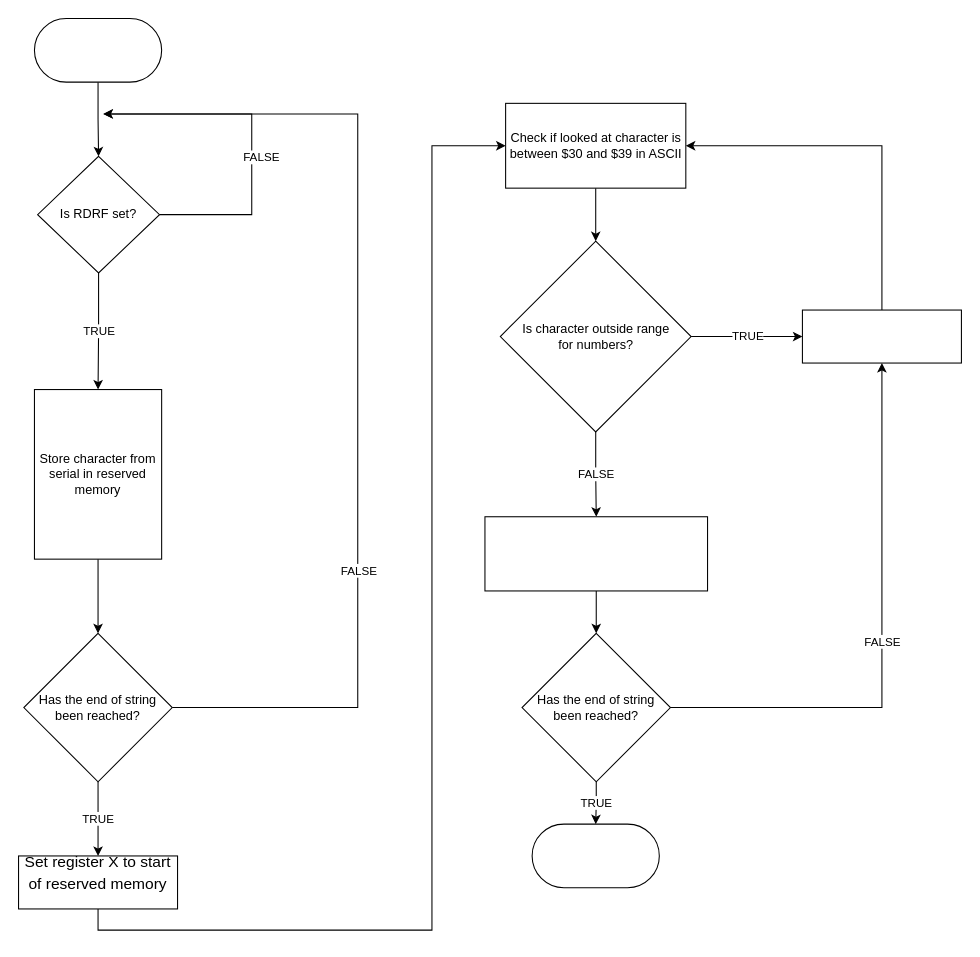
The diagram is 980 pixels wide and 957 high, and some of its shapes have lost their labels. Here are the shapes that lost their labels. From the top down, the centre of each, then its label:
At point (97, 49): "BEGIN".
At point (881, 336): "Move to next character".
At point (596, 553): "Store character to reserved memory for numbers".
At point (595, 855): "END".
